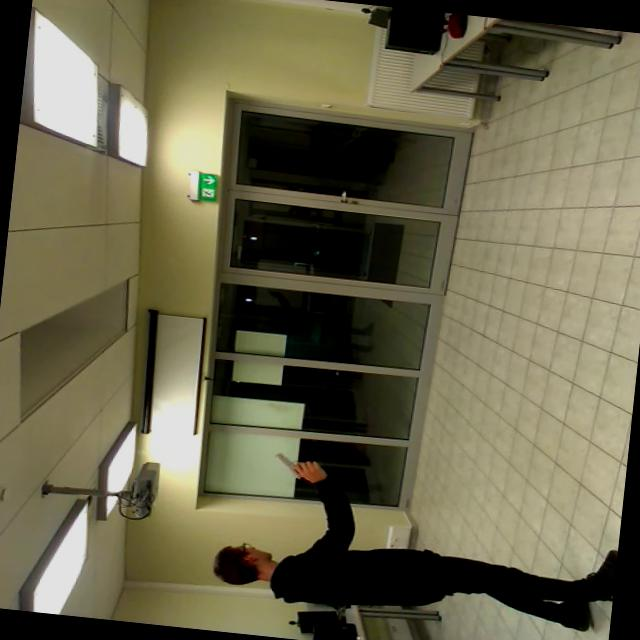handgun: (254, 436, 337, 484)
